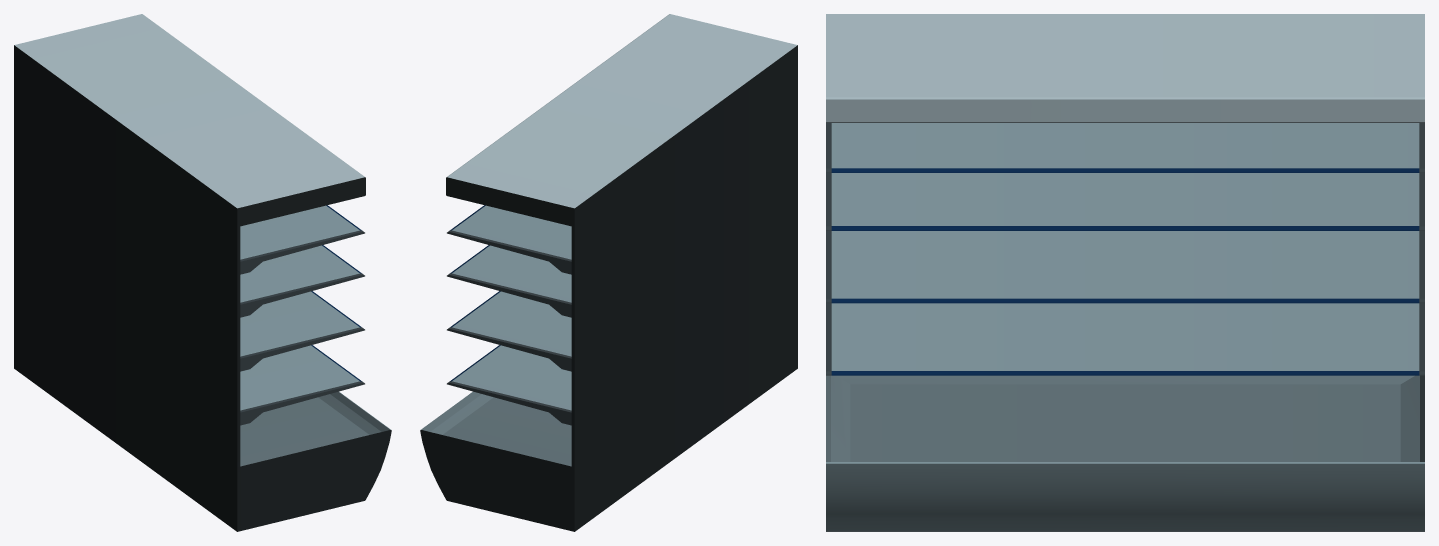
File: Freezer_Open_4row_col.glb
The picture shows the model from 3 angles, left to right: view 1: azimuth 30°, elevation 25°; view 2: azimuth 150°, elevation 25°; view 3: azimuth 270°, elevation 25°; orthographic projection. The views are drawn at different scales.
Visible parts, largest first — view 1: Freezer_Open_4row_col; view 2: Freezer_Open_4row_col; view 3: Freezer_Open_4row_col.
Boxes of the visible parts, bbox=[...] form: Freezer_Open_4row_col: bbox=[14, 14, 391, 531]; Freezer_Open_4row_col: bbox=[420, 14, 797, 531]; Freezer_Open_4row_col: bbox=[826, 14, 1424, 531].
Bounding box in the file's own units: 1.2 × 2.4 × 3.
Materials: 2 (2 with a texture image).
